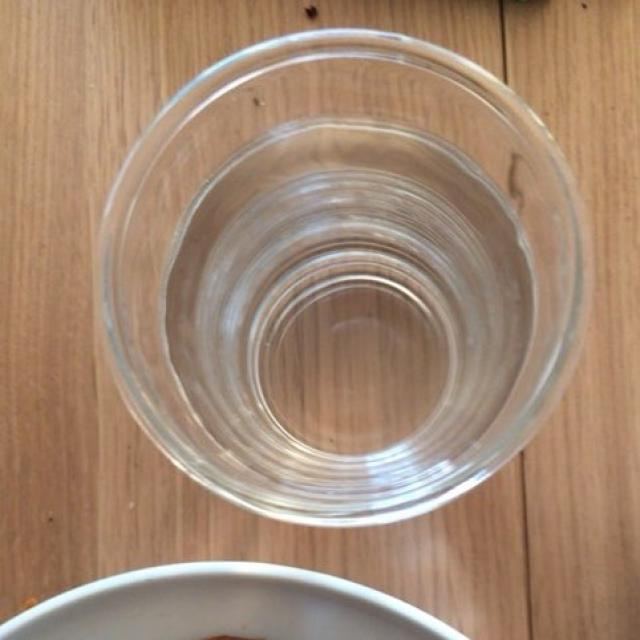water: (182, 115, 520, 502)
